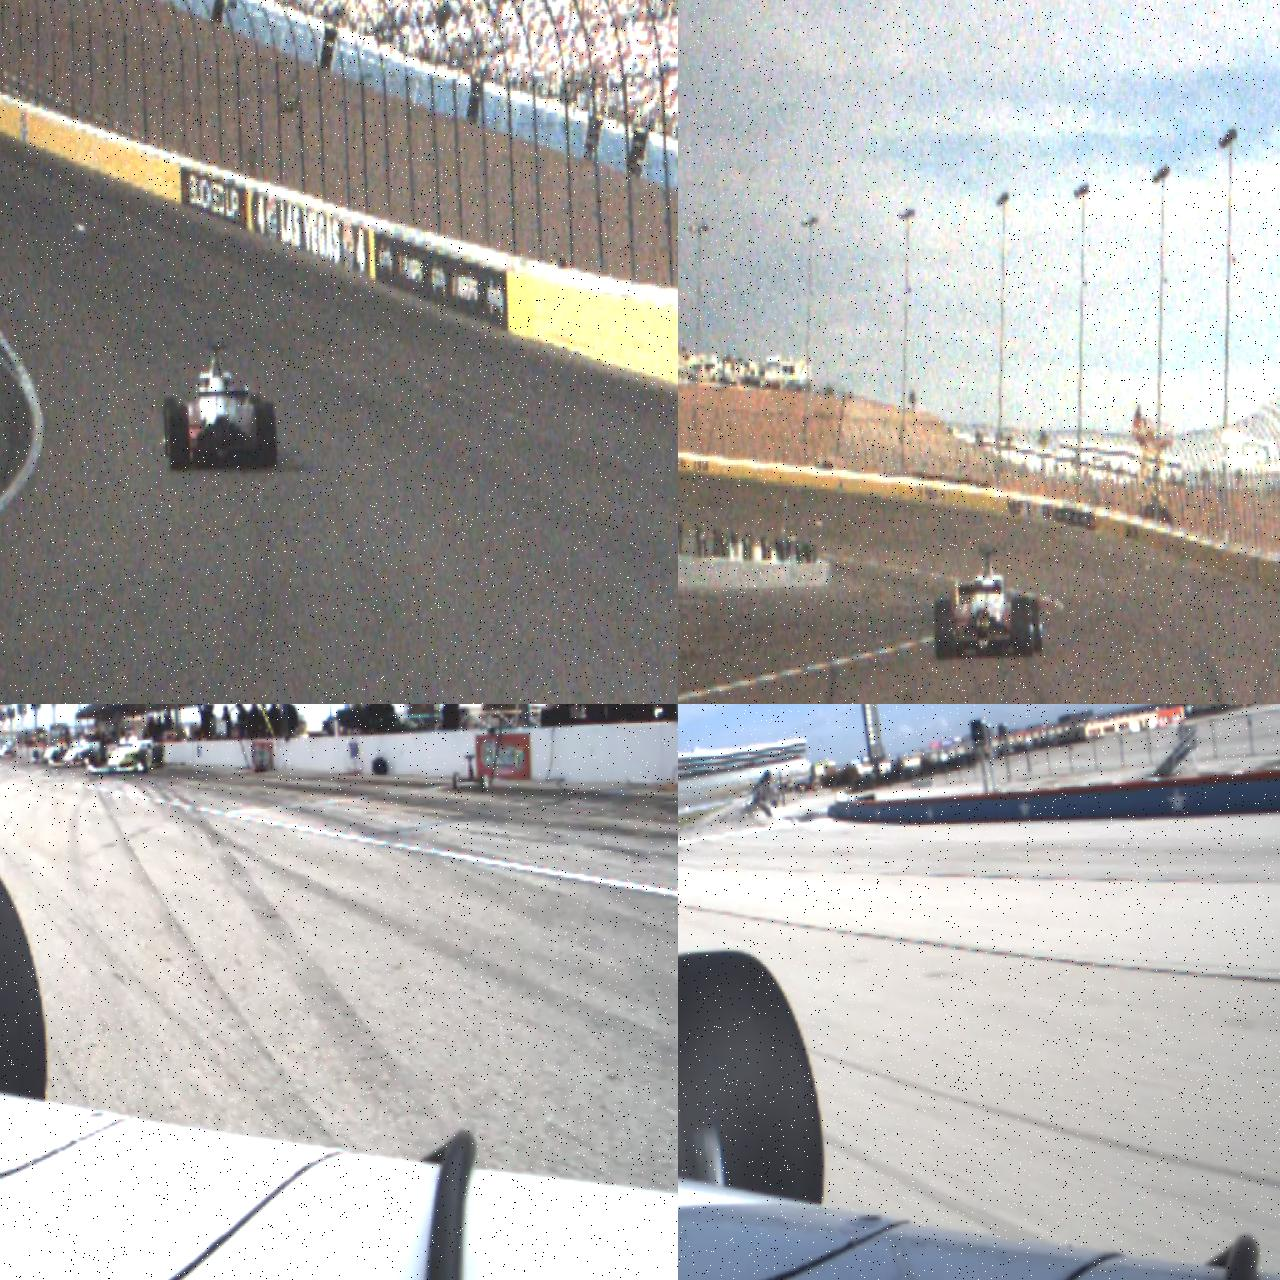AV: (158, 340, 278, 475), (930, 542, 1044, 661), (82, 726, 165, 776), (47, 734, 107, 769)
Wheel: (678, 947, 826, 1214), (166, 406, 191, 471), (256, 401, 278, 471), (1010, 595, 1033, 658), (933, 599, 954, 661), (161, 395, 179, 458), (1027, 598, 1042, 653), (137, 747, 149, 772), (154, 743, 164, 767)
